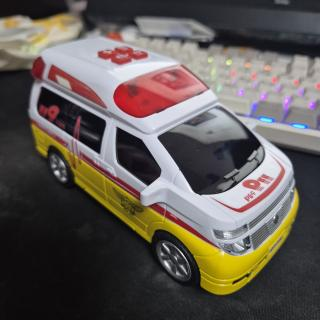Ambulance: (29, 38, 298, 294)
